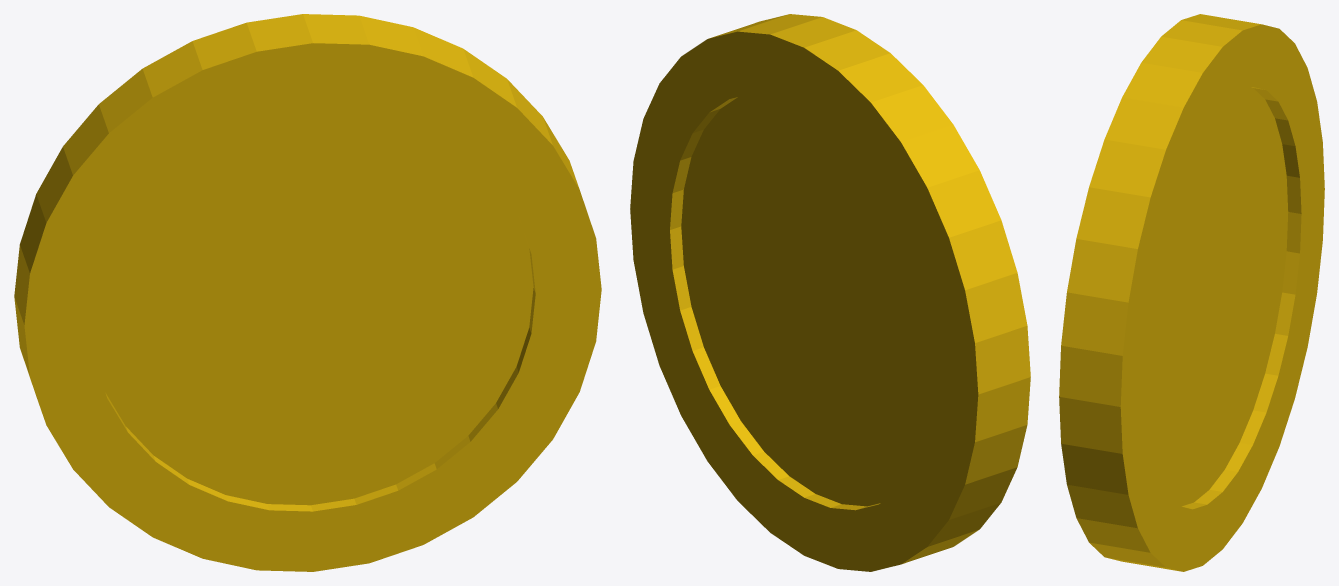
File: Coin.fbx
3 views of the same model, side by side, from view 1: azimuth 30°, elevation 25°; view 2: azimuth 150°, elevation 25°; view 3: azimuth 270°, elevation 25° (orthographic). The views are drawn at different scales.
Parts seen in each view (by area): view 1: Cylinder; view 2: Cylinder; view 3: Cylinder.
Boxes of the visible parts, x1=… form: Cylinder: x1=14, y1=14, x2=601, y2=571; Cylinder: x1=630, y1=14, x2=1030, y2=571; Cylinder: x1=1059, y1=14, x2=1324, y2=571.
Bounding box in the file's own units: 195 × 200 × 95.85.
